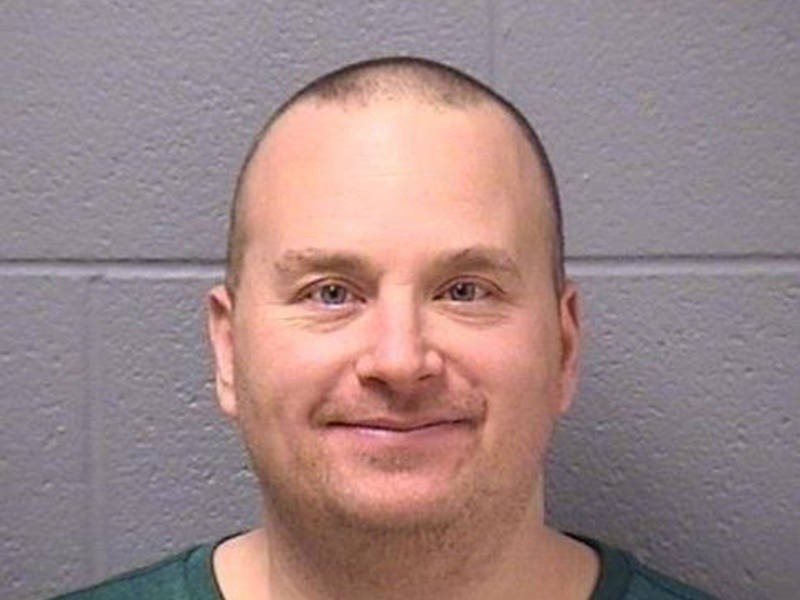face_no_mask: (203, 56, 590, 552)
